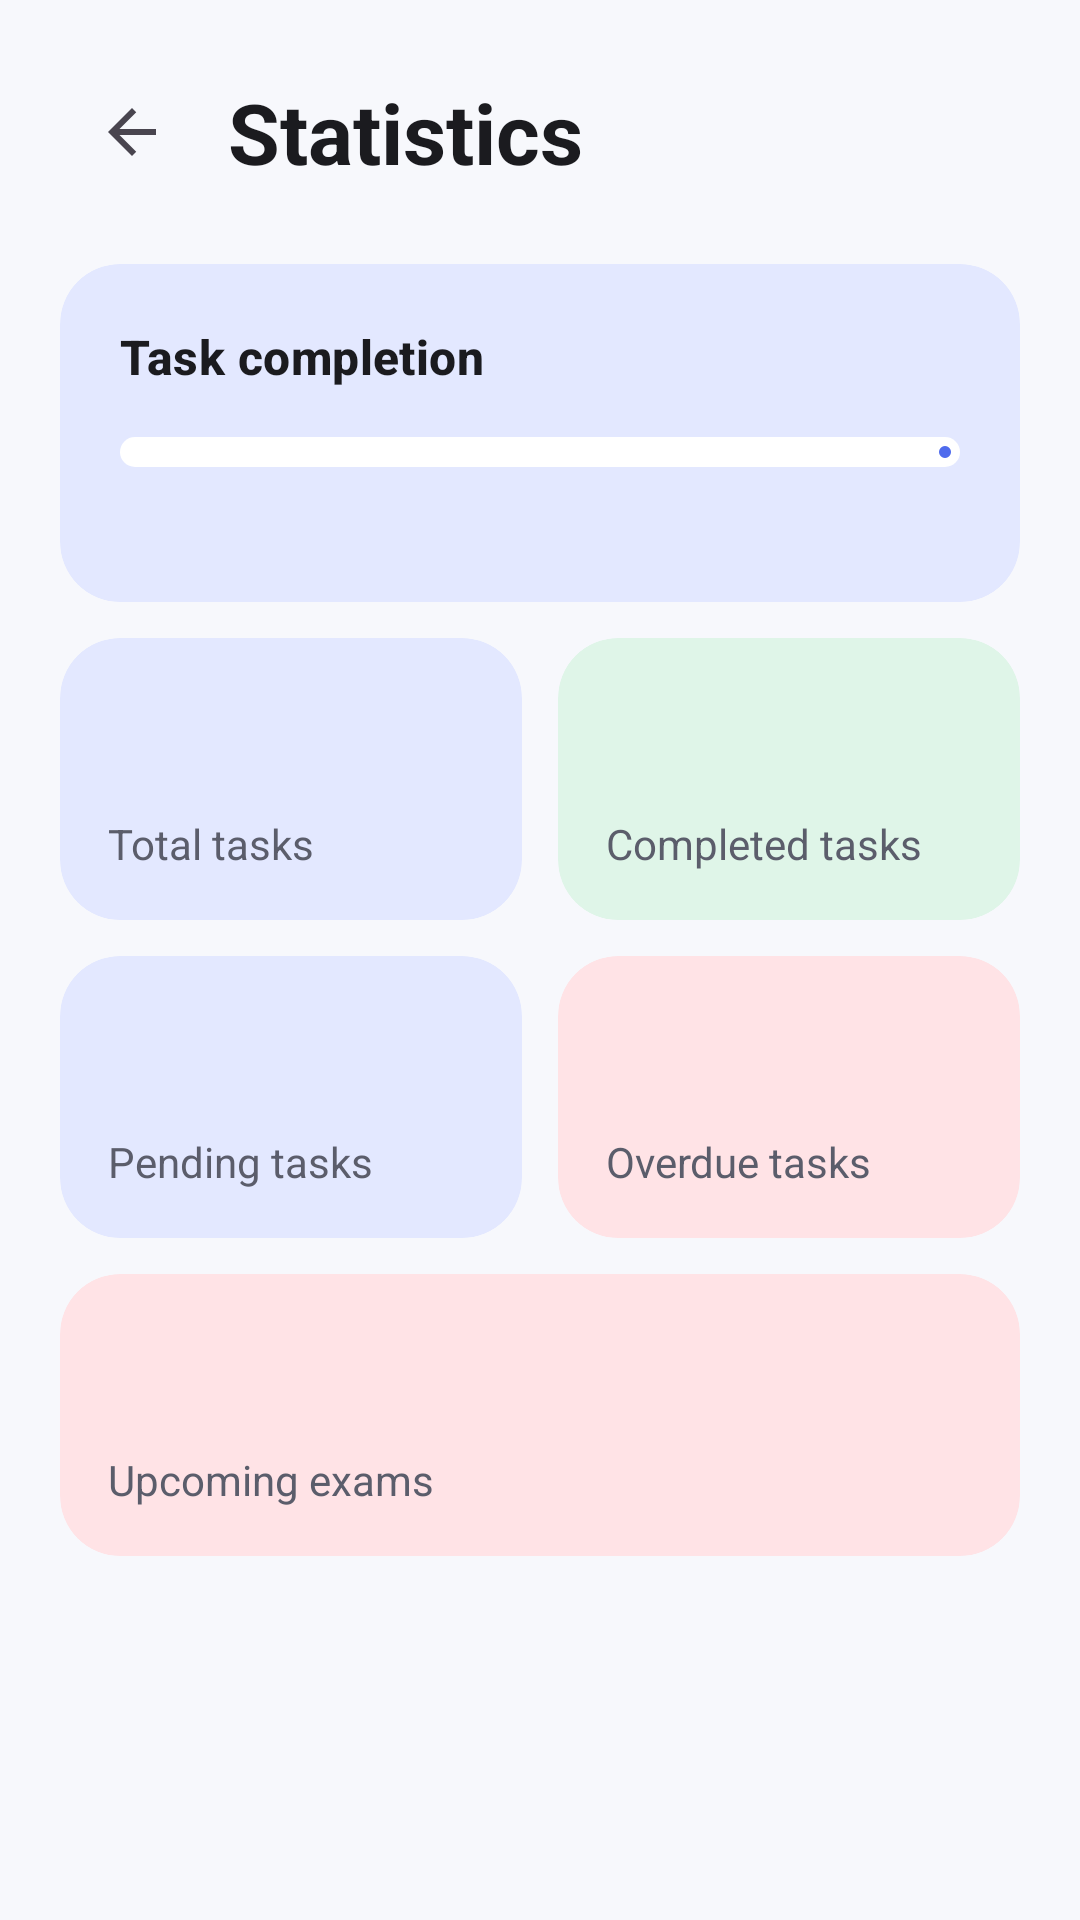

Point at icon controls on the screen. Image size 1080x1920, points as point (x, y).
Back: point (132, 132)
